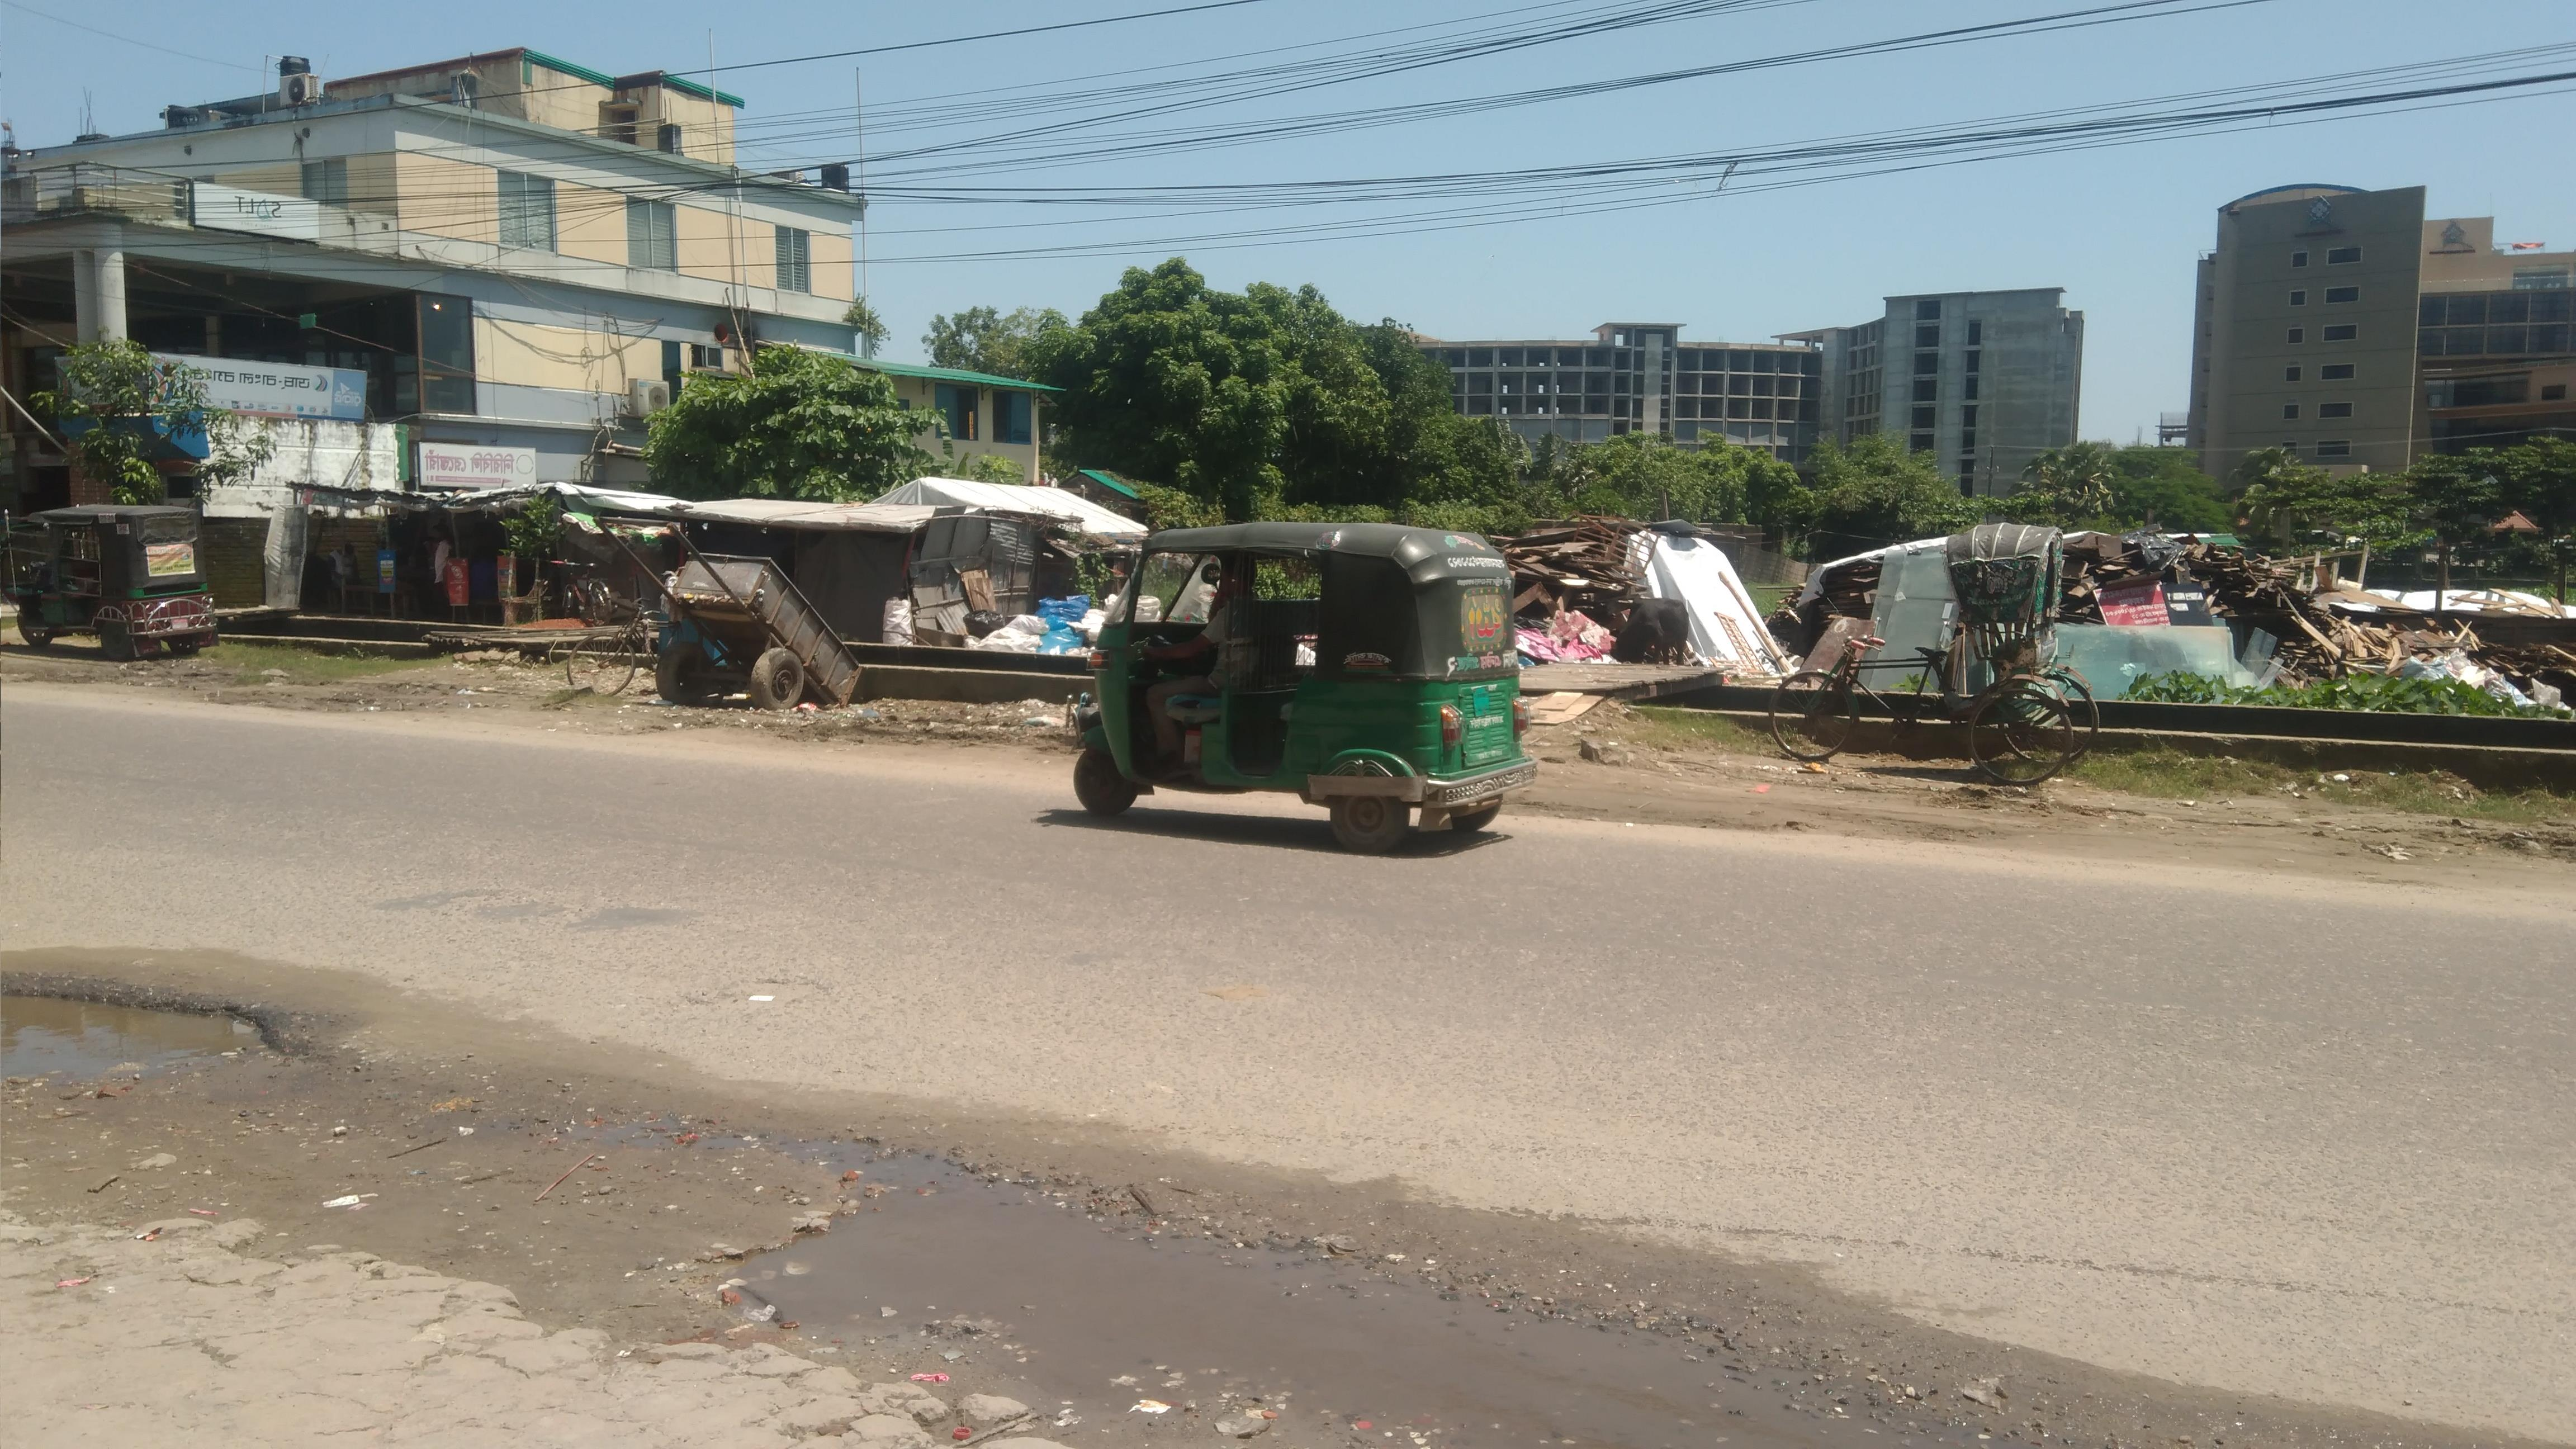cng: (1062, 508, 1529, 858)
easybike: (9, 495, 225, 676)
rickshaw: (1759, 513, 2111, 801)
wheelbarrow: (596, 501, 897, 747)
